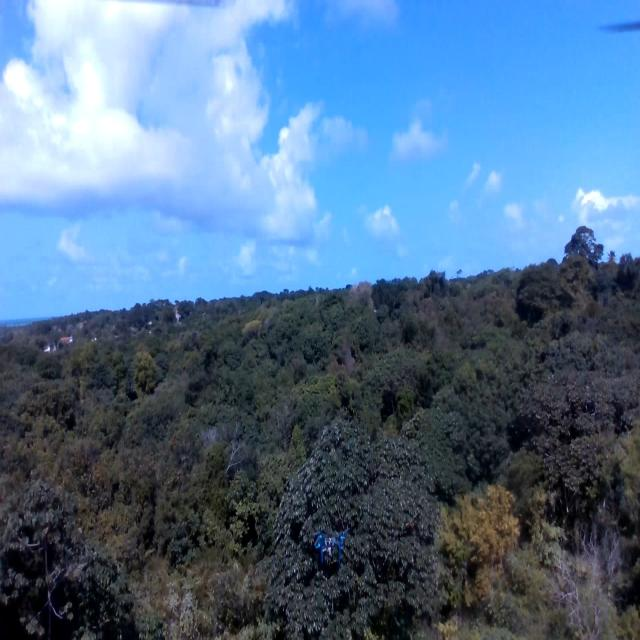-uav-: (310, 522, 348, 568)
